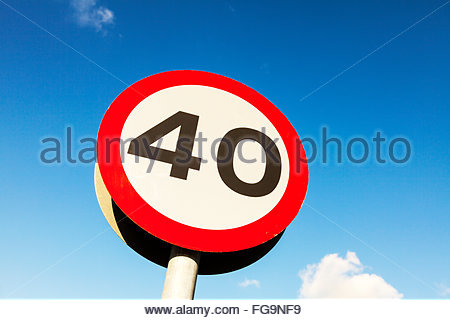Speed_limit_40km: (94, 70, 311, 253)
